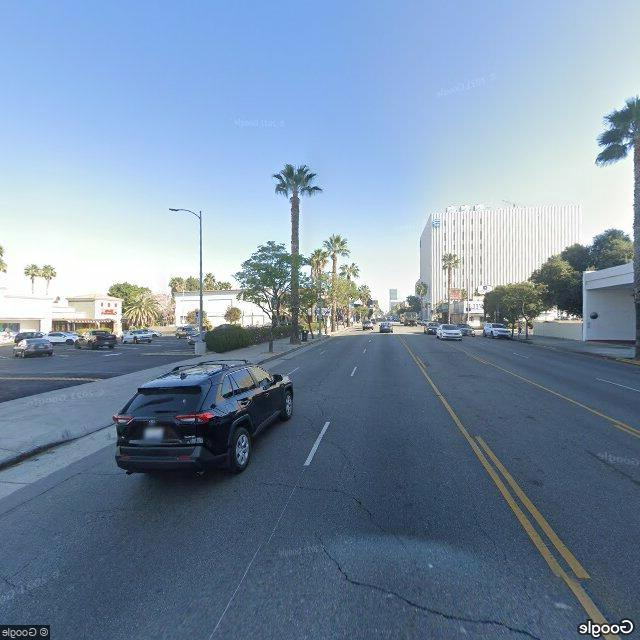crack: (313, 540, 553, 638), (255, 476, 395, 535)
